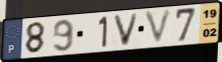1: (97, 15, 109, 48)
7: (174, 7, 198, 45)
8: (24, 21, 48, 55)
9: (52, 18, 76, 53)
V: (142, 7, 175, 47), (112, 12, 141, 48)
